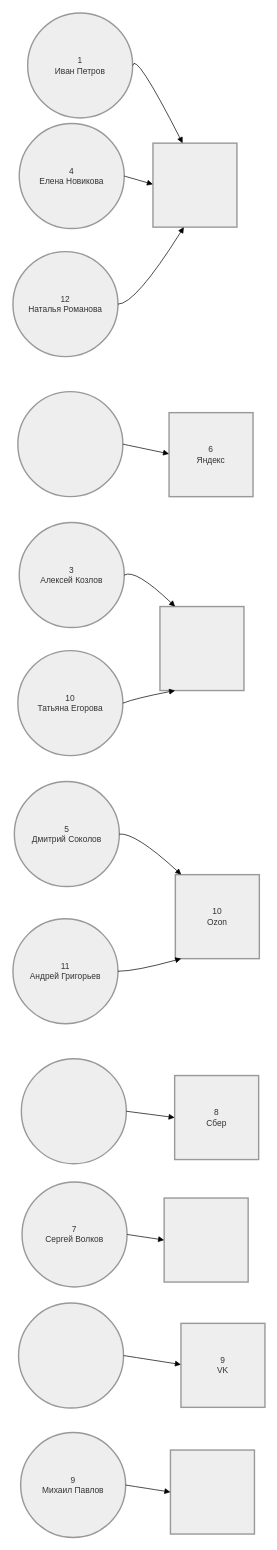
Image size: 277x1550. Some labels were removed from this diagram. Here are the shapes that lost their labels. From the top down, the centre of each, then its label:
the point at 194,184: 1 EPAM Systems
the point at 70,444: 2 Мария Сидорова
the point at 201,648: 7 Тинькофф
the point at 73,1111: 6 Анна Морозова
the point at 205,1239: 2 Microsoft
the point at 71,1355: 8 Ольга Лебедева
the point at 212,1491: 3 Google
